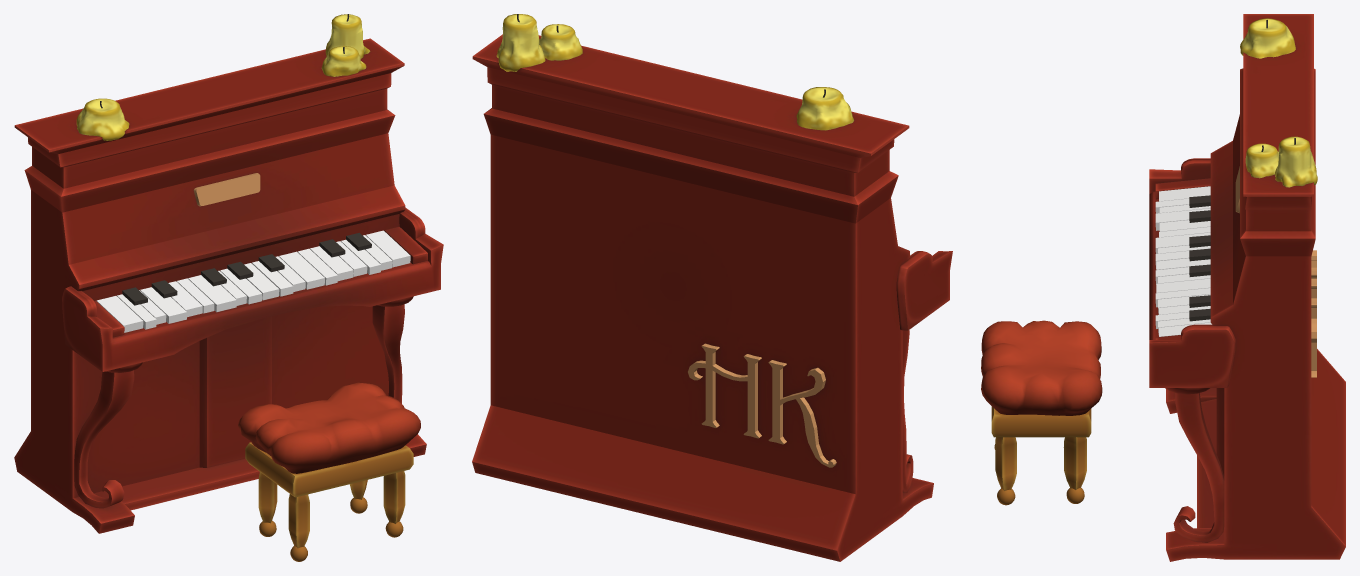
Rendered from Piano.fbx.
The picture shows the model from 3 angles, left to right: view 1: azimuth 30°, elevation 25°; view 2: azimuth 150°, elevation 25°; view 3: azimuth 270°, elevation 25°; orthographic projection. The views are drawn at different scales.
Visible parts, largest first — view 1: Leg_low, Pillow_low, Chair_low, Candle_Stick_low, pCylinder17_low, pCylinder16_low; view 2: Leg_low, pCylinder17_low, Candle_Stick_low, pCylinder16_low; view 3: Leg_low, Pillow_low, Chair_low, pCylinder17_low, Candle_Stick_low, pCylinder16_low.
Boxes of the visible parts, bbox=[...] form: Leg_low: bbox=[14, 38, 443, 533]; Pillow_low: bbox=[238, 382, 420, 473]; Chair_low: bbox=[245, 442, 413, 561]; Candle_Stick_low: bbox=[76, 98, 129, 140]; pCylinder17_low: bbox=[325, 14, 370, 58]; pCylinder16_low: bbox=[321, 46, 366, 76]; Leg_low: bbox=[472, 34, 952, 561]; pCylinder17_low: bbox=[496, 14, 545, 71]; Candle_Stick_low: bbox=[796, 87, 853, 130]; pCylinder16_low: bbox=[539, 24, 582, 60]; Leg_low: bbox=[1149, 14, 1345, 561]; Pillow_low: bbox=[981, 320, 1102, 415]; Chair_low: bbox=[991, 406, 1091, 505]; pCylinder17_low: bbox=[1275, 136, 1317, 187]; Candle_Stick_low: bbox=[1240, 18, 1295, 58]; pCylinder16_low: bbox=[1245, 143, 1278, 178].
Size of the model in its own units: 743 by 799 by 636.
Materials: 1 (1 with a texture image).
